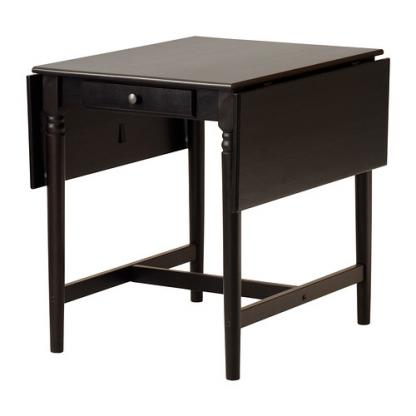Table: (21, 27, 395, 387)
